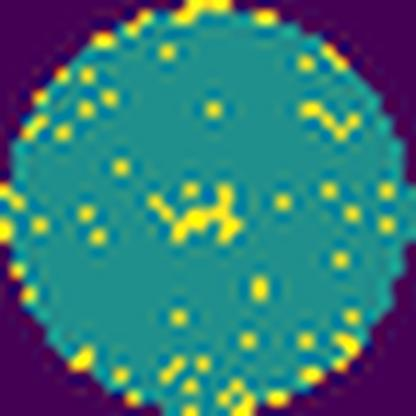Center: (171, 183, 246, 244)
